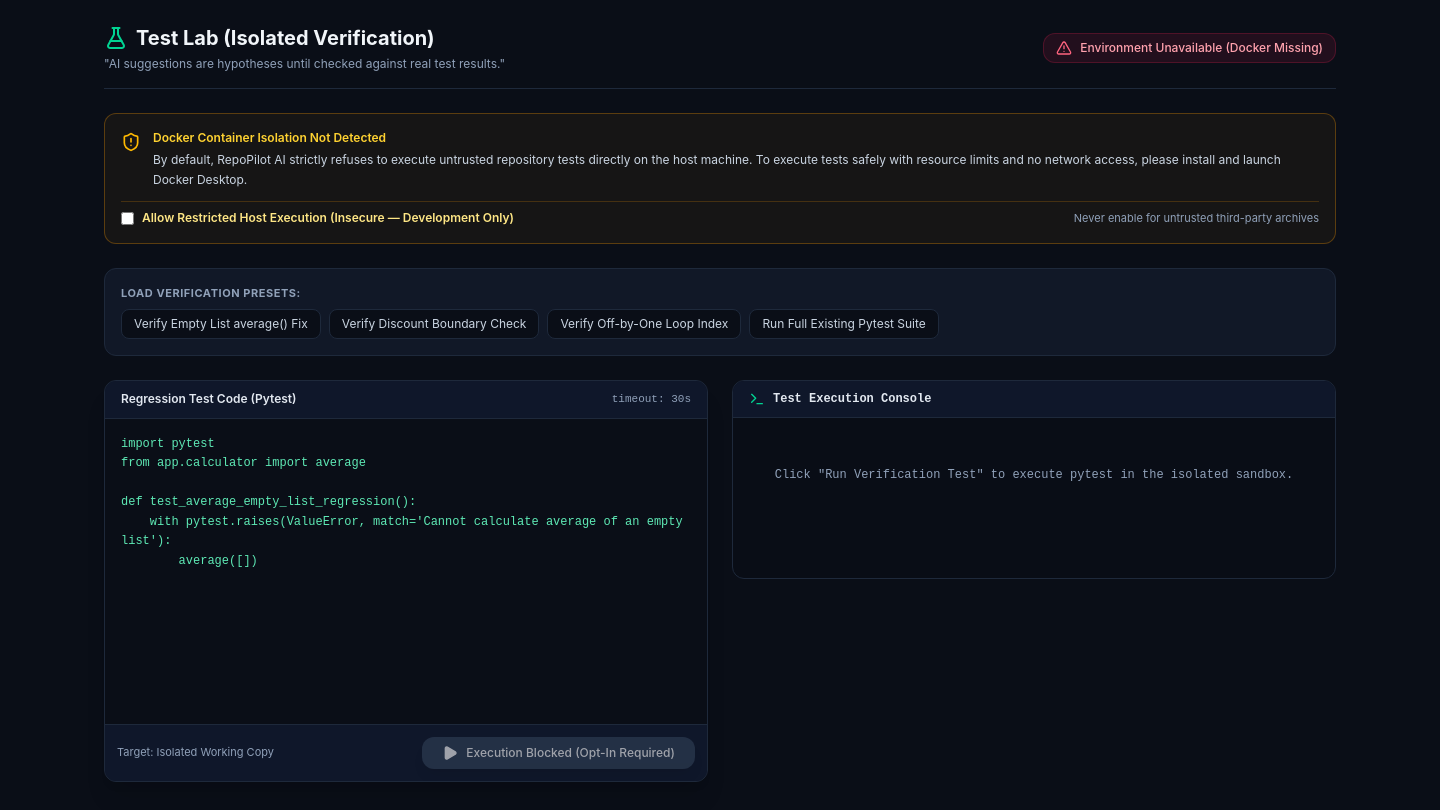
Test: Frontend Verification Test Suite › renders Test Lab with safe default blocking when Docker is unavailable
expect the text "Environment Unavailable (Docker Missing)" is shown: met, box [1080, 40, 1323, 56]
expect the text "Execution Blocked (Opt-In Required)" is shown: met, box [466, 744, 675, 760]
What coordinates should you click on to do the following:
click the checkbox labelled "Allow Restricted Host Execution"
I would click on:
 (128, 218)
Its box is [121, 212, 134, 225].
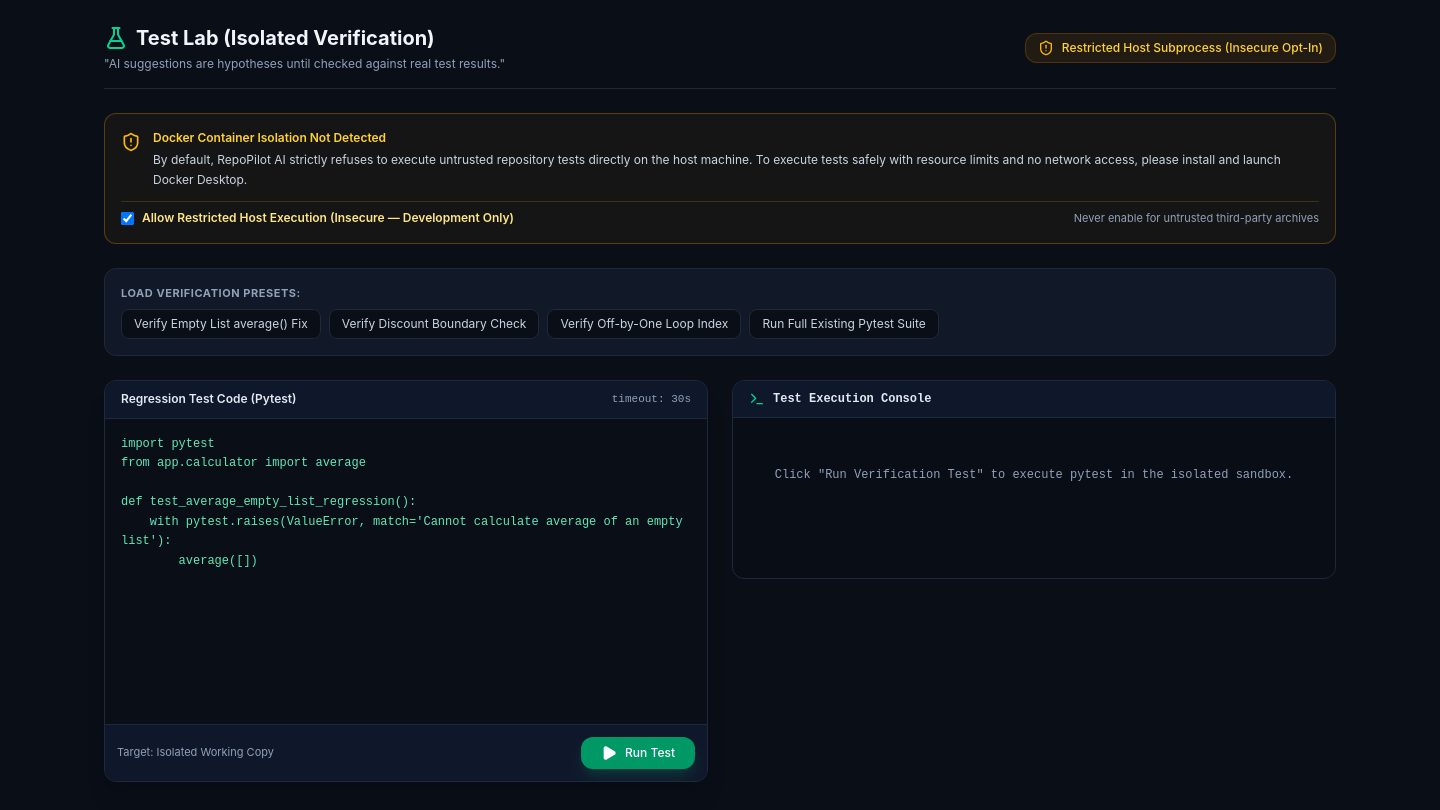
expect the checkbox labelled "Allow Restricted Host Execution" is checked: met, box [121, 212, 134, 225]
expect the text "Run Test" is shown: met, box [625, 744, 675, 760]
